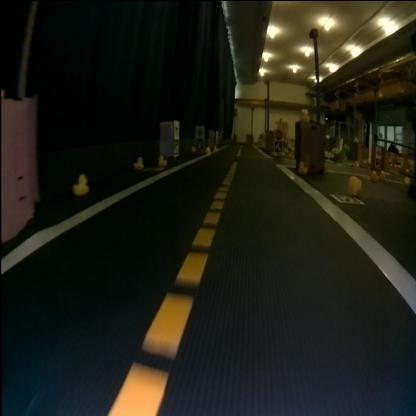Duckie: (72, 174, 89, 192), (347, 174, 361, 192), (134, 157, 144, 167), (158, 154, 166, 165), (299, 160, 306, 172)
QR code: (332, 194, 362, 201)
